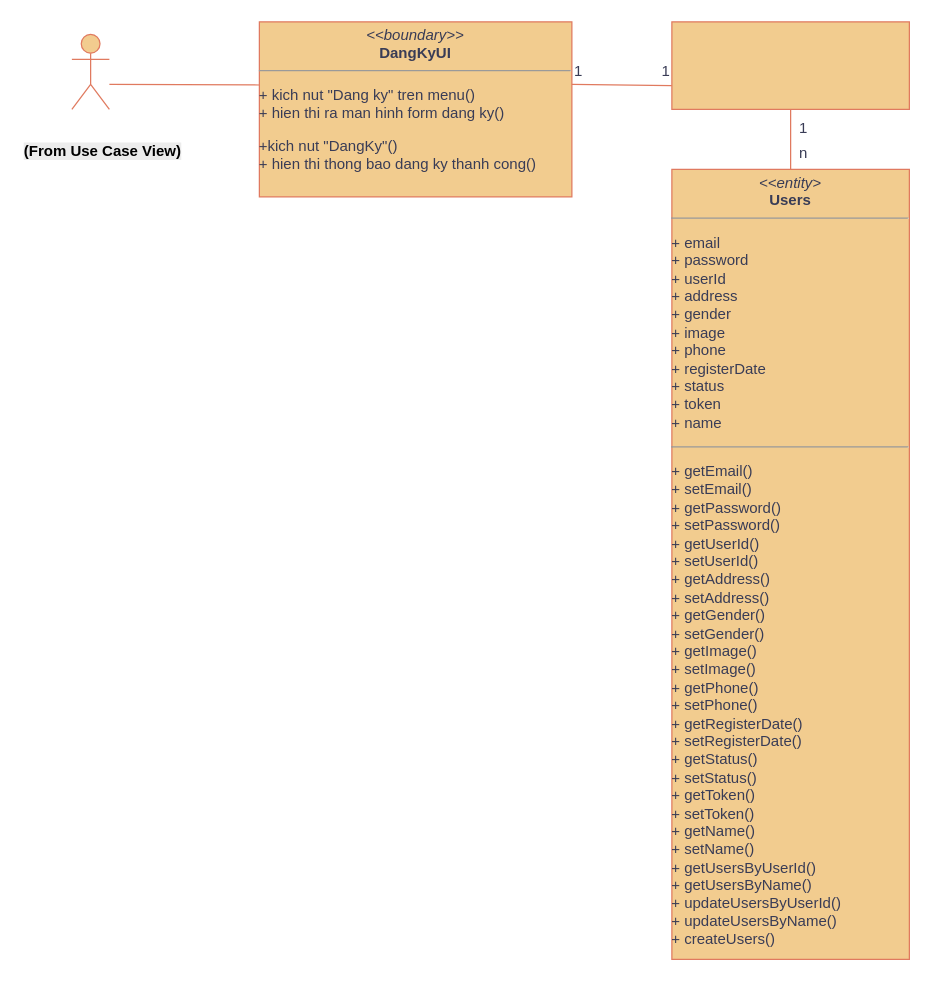
The diagram is 931 pixels wide and 981 high, and some of its shapes have lost their labels. The shapes that lost their labels are listed below. From the top down, each one's centre as x and y in pixels, then its label:
At point 90,71: "KhachHang".
At point 790,65: "<<Control>> DangKyController + luu thong tin dang ky()".
